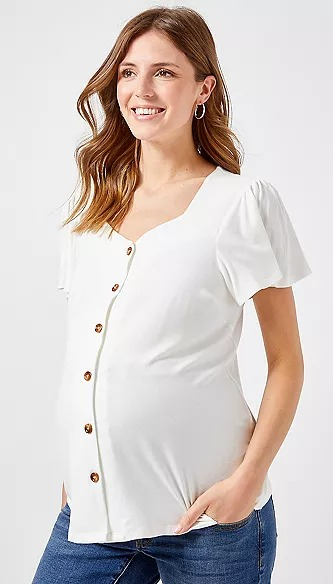S_short blouse: (47, 167, 312, 548)
